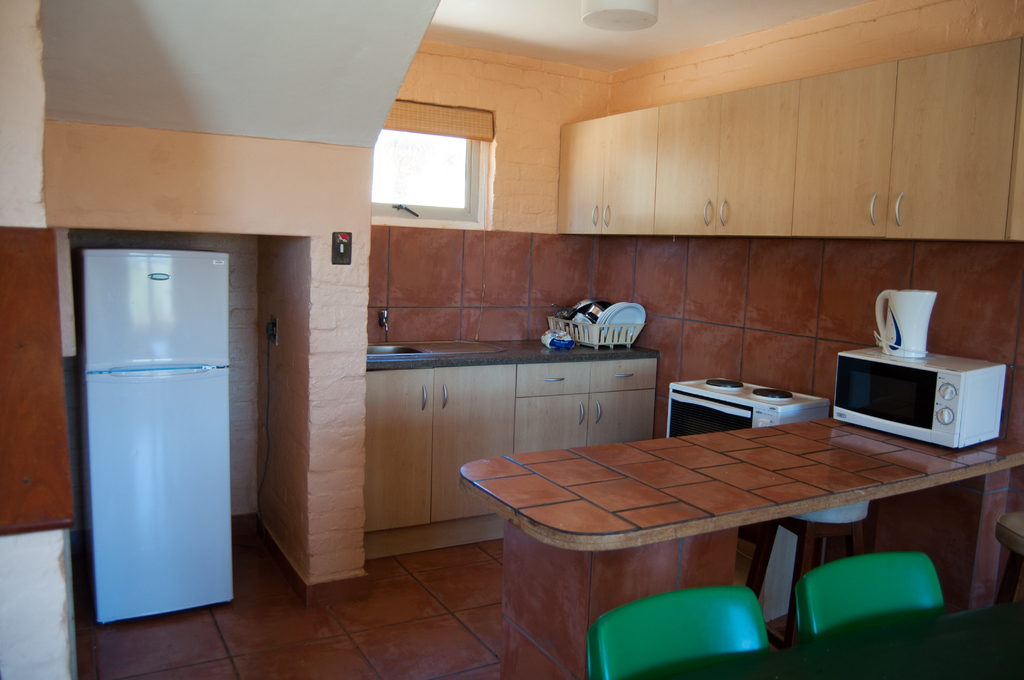cabinet door: (886, 70, 1009, 243), (794, 83, 882, 234), (440, 375, 521, 511), (711, 103, 790, 230), (654, 103, 721, 230), (374, 376, 431, 517), (599, 124, 655, 230), (556, 124, 598, 233), (591, 387, 652, 445), (541, 395, 589, 456), (526, 364, 589, 394), (589, 354, 639, 387)
handle: (104, 351, 209, 384), (606, 370, 642, 388), (891, 187, 908, 225), (575, 400, 590, 433), (439, 380, 452, 418), (718, 194, 734, 224), (590, 401, 605, 427), (865, 193, 878, 223), (601, 203, 616, 226), (418, 385, 429, 415), (706, 199, 718, 226), (553, 373, 569, 386), (594, 203, 603, 225)
refrigerator door: (94, 375, 234, 596), (83, 247, 227, 362)
